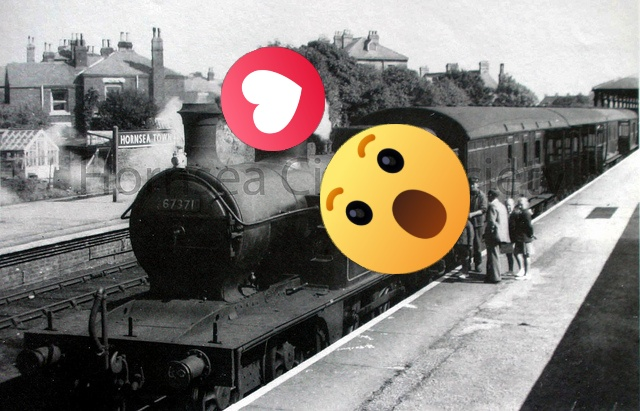love: (221, 47, 325, 151)
wow: (320, 124, 470, 274)
